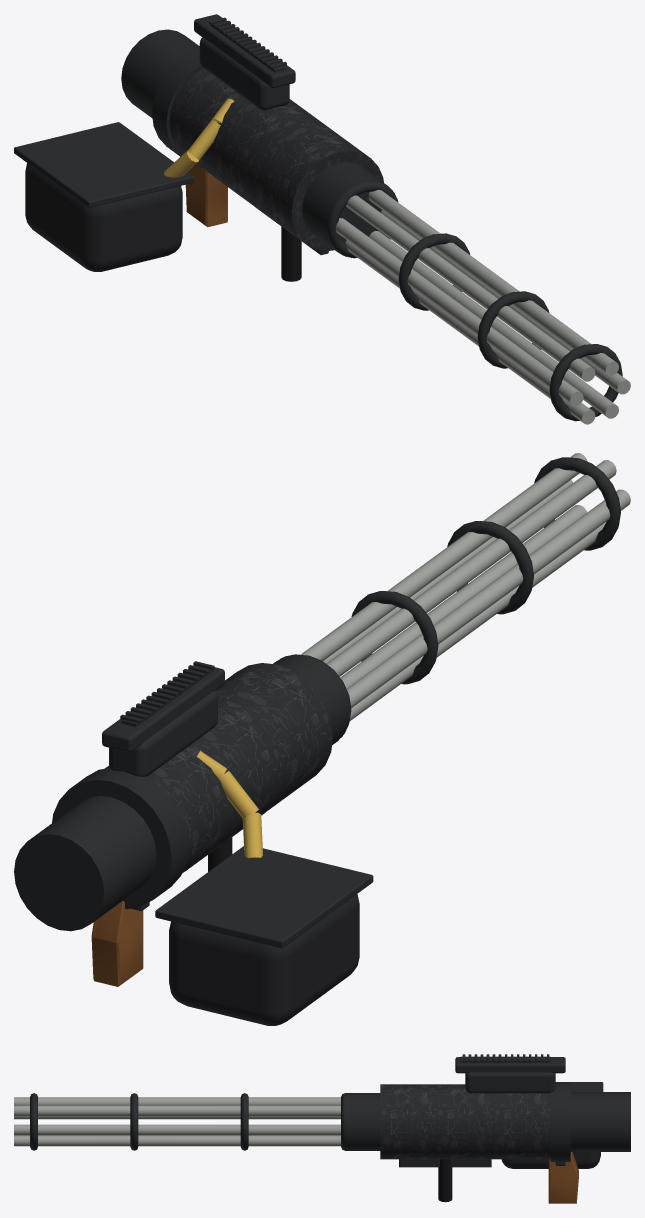
The model's file is 06-minigun.glb.
3 views of the same model, one above another, from view 1: azimuth 30°, elevation 25°; view 2: azimuth 150°, elevation 25°; view 3: azimuth 270°, elevation 25° (orthographic). The views are drawn at different scales.
Size of the model in its own units: 0.345 by 0.3152 by 1.23.
8 materials, 2 textured.
